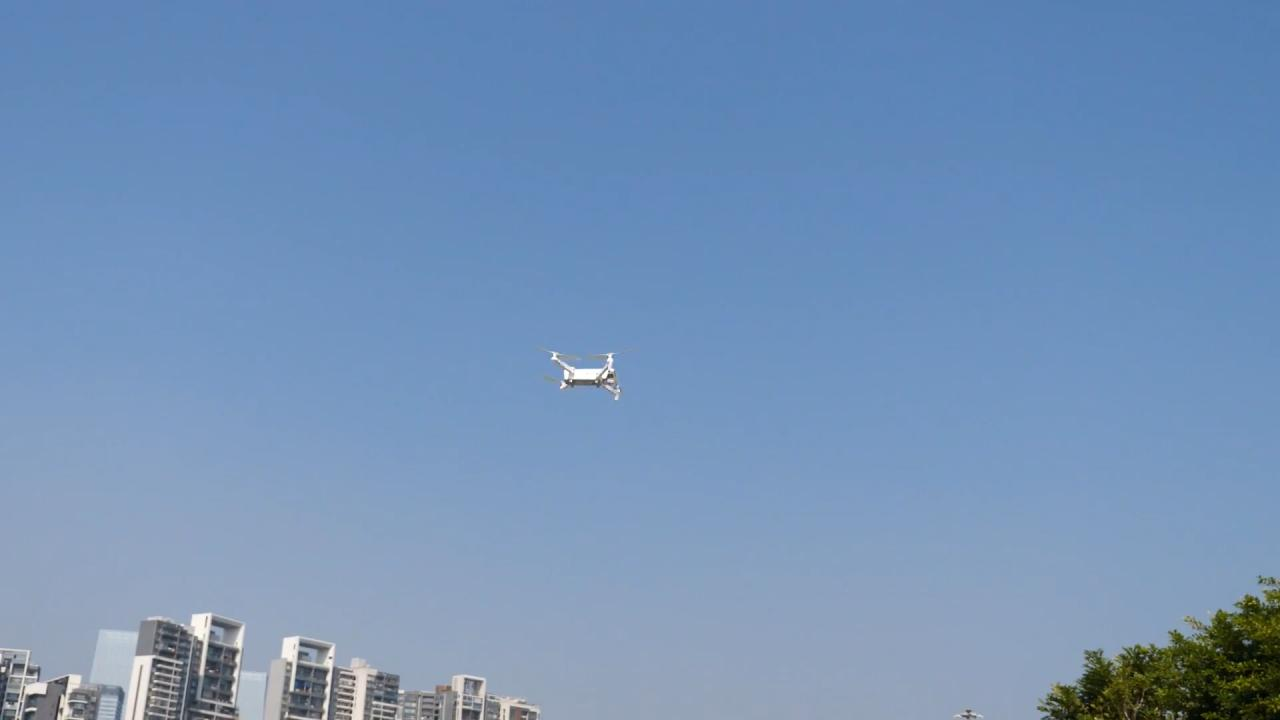Drone: (527, 336, 642, 408)
